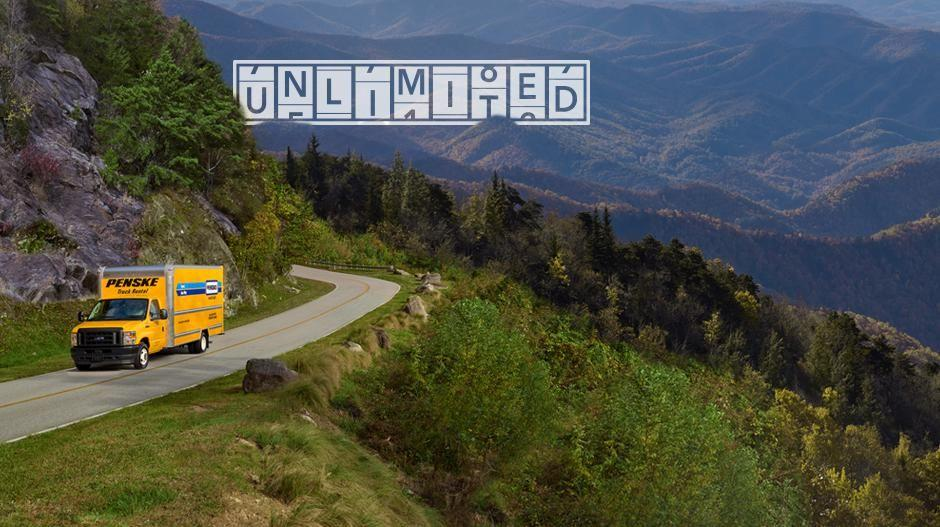truck: (71, 262, 224, 372)
